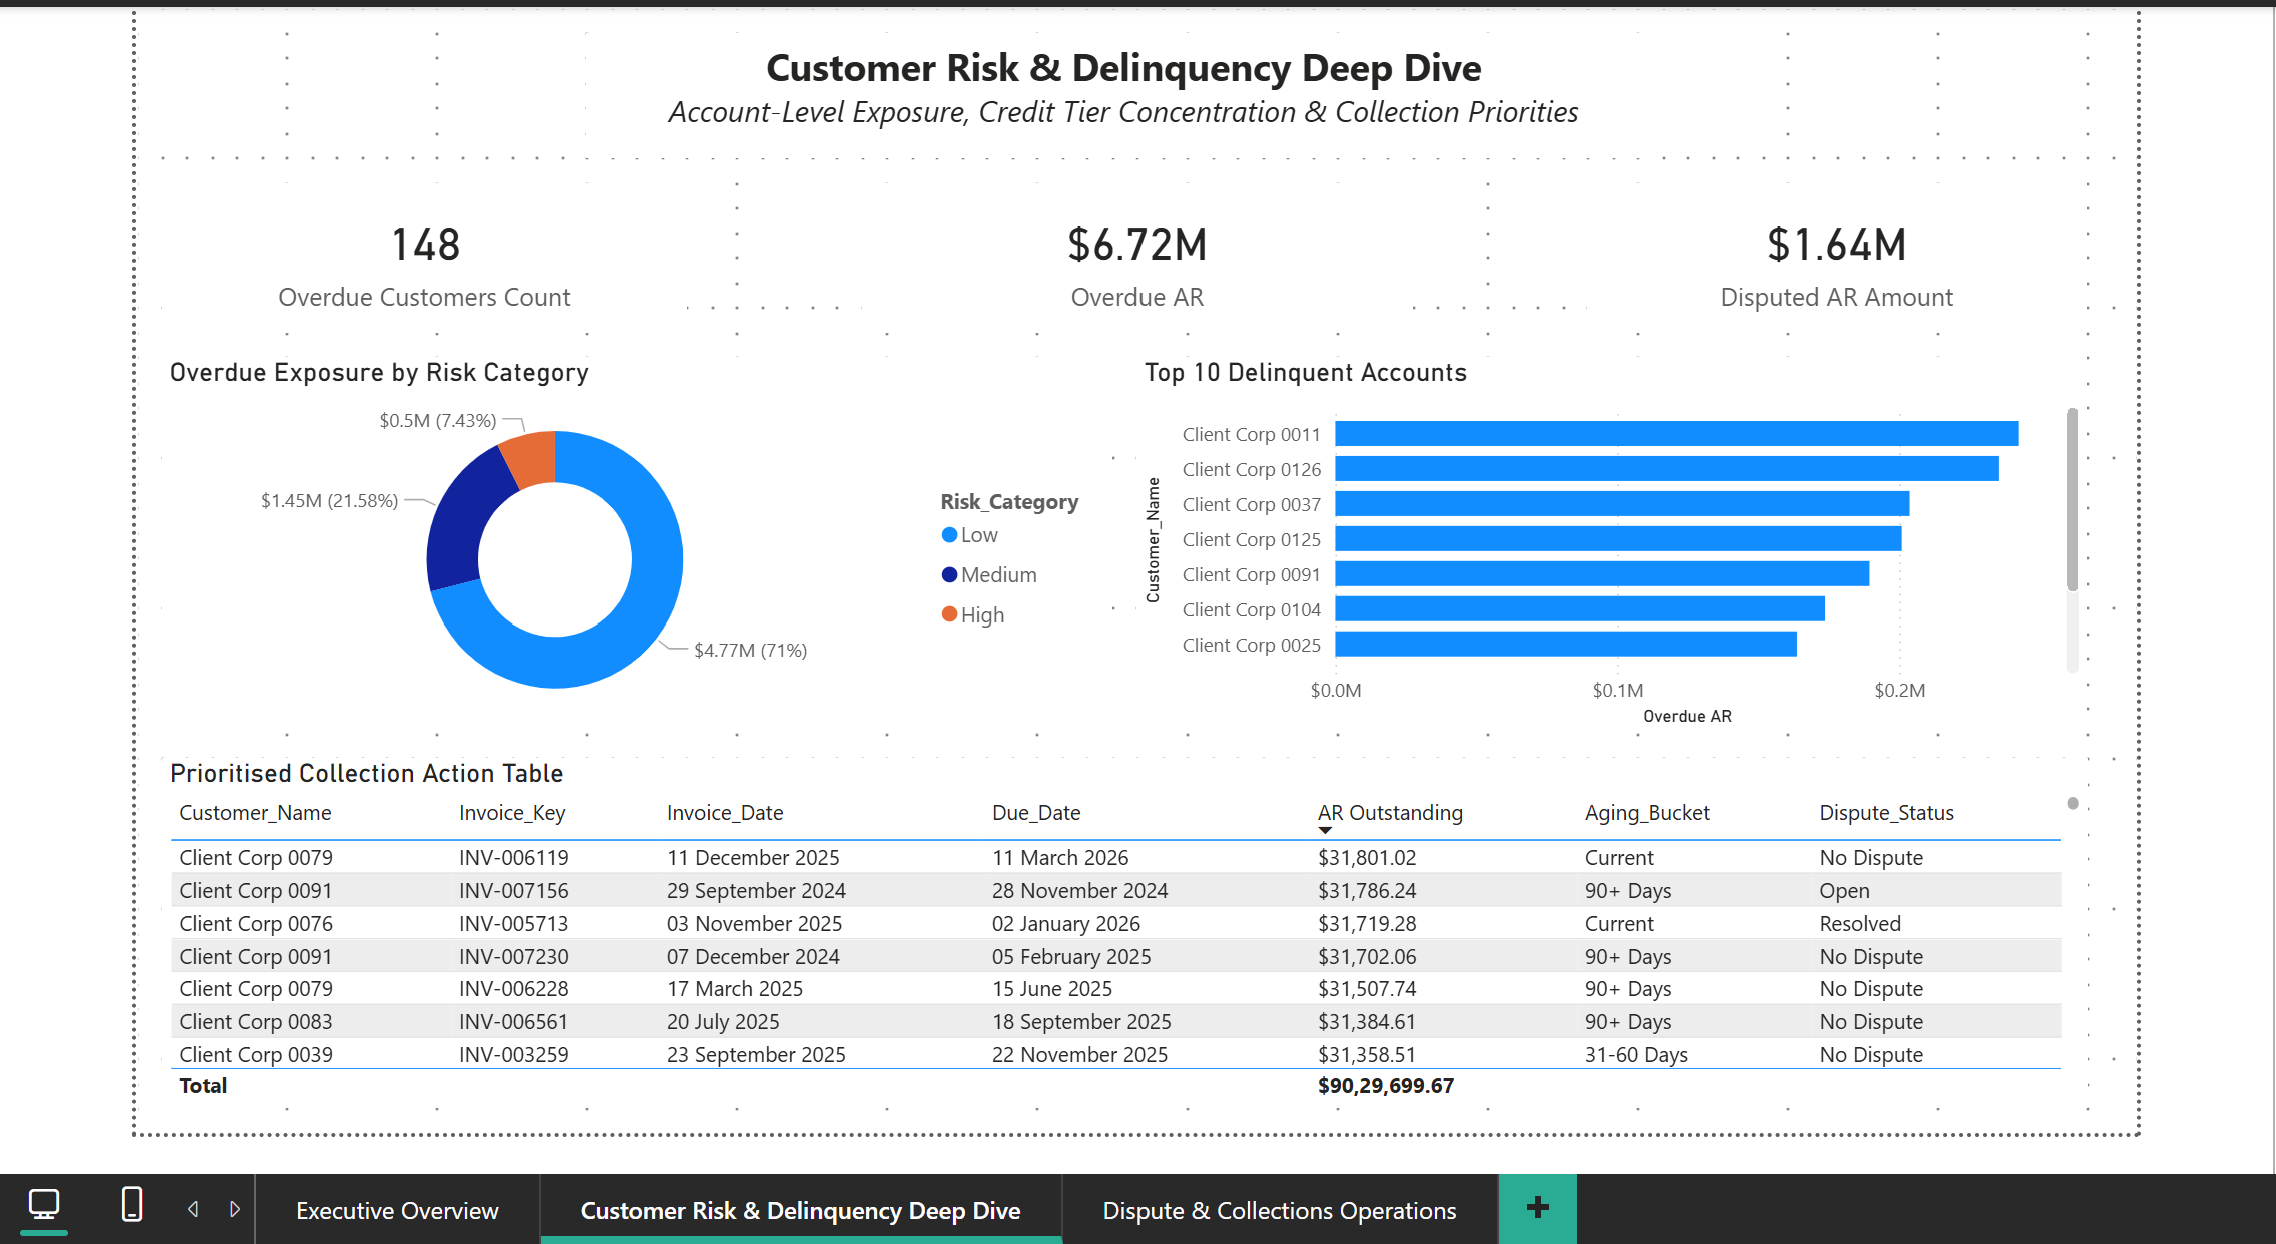

Layout of this report page (visuals, bound fields, positions):
{"tool":"powerbi","page":{"name":"Customer Risk & Delinquency Deep Dive","canvas":[1280,720],"ordinal":1},"visuals":[{"type":"textbox","box":[288,16,688,80],"z":0},{"type":"card","fields":{"Values":["_Measures.Overdue AR"]},"box":[464,112,352,96],"z":1},{"type":"card","fields":{"Values":["_Measures.Disputed AR Amount"]},"box":[928,112,320,96],"z":2},{"type":"card","fields":{"Values":["_Measures.Overdue Customers Count"]},"box":[16,112,336,96],"z":3},{"type":"donutChart","title":"Overdue Exposure by Risk Category","fields":{"Category":["Dim_Customer.Risk_Category"],"Y":["_Measures.Overdue AR"]},"box":[16,224,608,240],"z":4},{"type":"clusteredBarChart","title":"Top 10 Delinquent Accounts","fields":{"Category":["Dim_Customer.Customer_Name"],"Y":["_Measures.Overdue AR"]},"box":[640,224,608,240],"z":5},{"type":"tableEx","title":"Prioritised Collection Action Table","fields":{"Values":["Dim_Customer.Customer_Name","Fact_AR_Invoices.Invoice_Key","Fact_AR_Invoices.Invoice_Date","Fact_AR_Invoices.Due_Date","_Measures.AR Outstanding","Fact_AR_Invoices.Aging_Bucket","Fact_AR_Invoices.Dispute_Status"]},"box":[16,480,1232,224],"z":6}]}

Visuals, with their boxes on the page's 1280x720 design canvas (x1, y1, x2, y2). These are canvas units, not pixel positions in the 2276x1244 screenshot, which may show the page scaled, cropped or inside an application window:
textbox: rect(288, 16, 976, 96)
card - _Measures.Overdue AR: rect(464, 112, 816, 208)
card - _Measures.Disputed AR Amount: rect(928, 112, 1248, 208)
card - _Measures.Overdue Customers Count: rect(16, 112, 352, 208)
"Overdue Exposure by Risk Category" donutChart: rect(16, 224, 624, 464)
"Top 10 Delinquent Accounts" clusteredBarChart: rect(640, 224, 1248, 464)
"Prioritised Collection Action Table" tableEx: rect(16, 480, 1248, 704)
